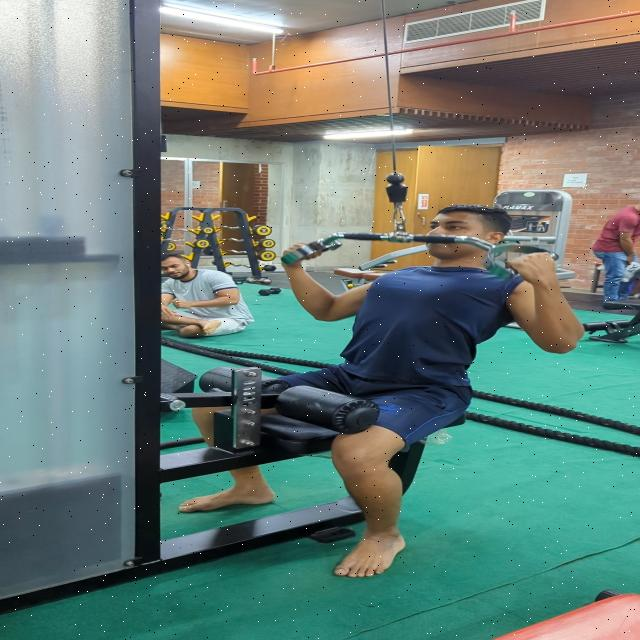Normal_LatPulldown: (175, 200, 590, 585)
